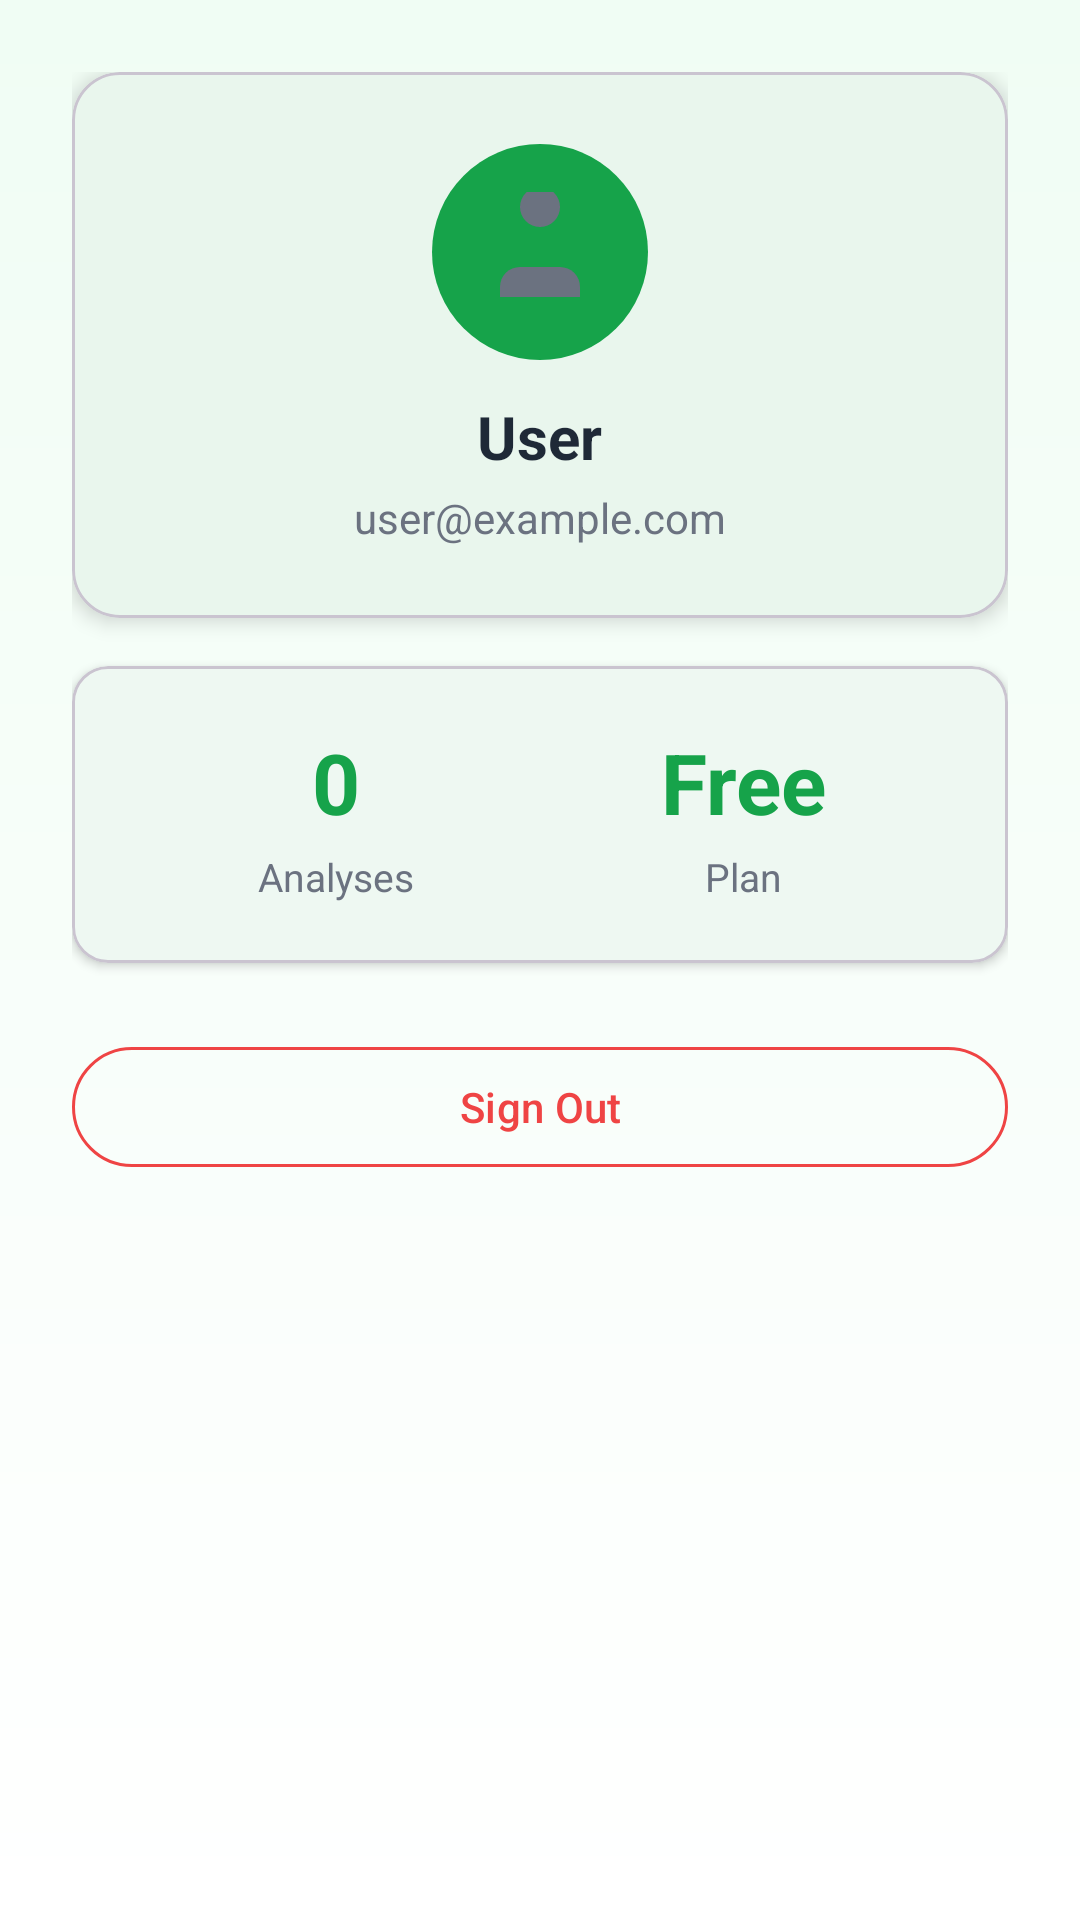

Where to tap for icons on this 1080 × 1920 app screen, as point (x, y):
profile: point (540, 252)
